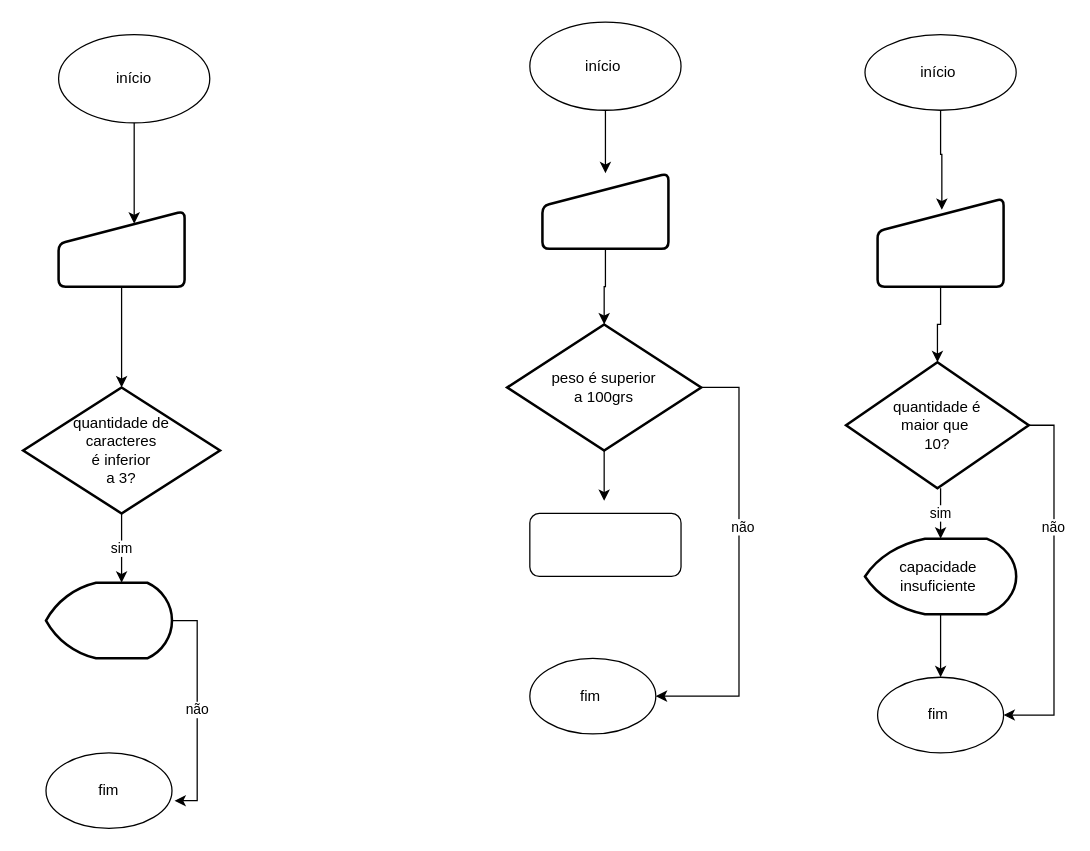
The diagram is 1090 pixels wide and 851 high, and some of its shapes have lost their labels. The shapes that lost their labels are listed below. From the top down, each one's centre as x and y in pixels, then its label:
At point (605, 210): "peso da peça".
At point (121, 248): "nome da peça".
At point (940, 242): "quantidade de peças".
At point (605, 544): "cadastrar".
At point (108, 620): "msg de erro".
